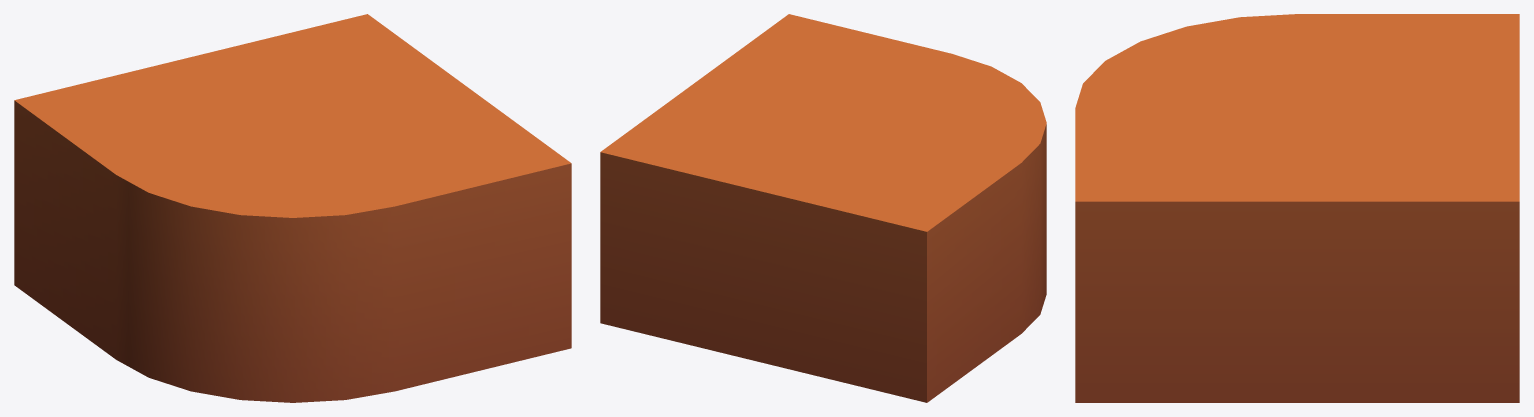
Rendered from kaykit_terrain_low_curved_v01.glb.
The picture shows the model from 3 angles, left to right: view 1: azimuth 30°, elevation 25°; view 2: azimuth 150°, elevation 25°; view 3: azimuth 270°, elevation 25°; orthographic projection. The views are drawn at different scales.
Visible parts, largest first — view 1: terrain_low_curved; view 2: terrain_low_curved; view 3: terrain_low_curved.
Boxes of the visible parts, x1=… form: terrain_low_curved: x1=14, y1=14, x2=571, y2=402; terrain_low_curved: x1=600, y1=14, x2=1046, y2=402; terrain_low_curved: x1=1075, y1=14, x2=1519, y2=402.
Bounding box in the file's own units: 2 × 1 × 2.
Materials: 1 (1 with a texture image).
